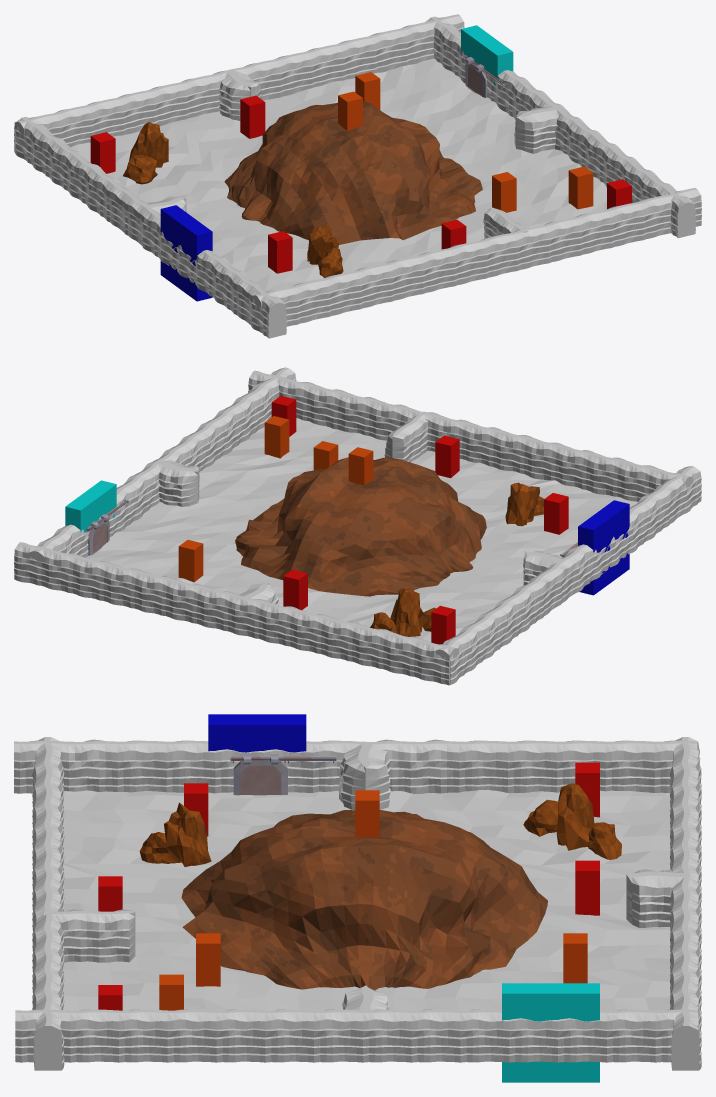
The model's file is level1_b1f_25.FBX.
3 renders of one model, top to bottom at view 1: azimuth 30°, elevation 25°; view 2: azimuth 150°, elevation 25°; view 3: azimuth 270°, elevation 25°, orthographic. The views are drawn at different scales.
Visible parts, largest first — view 1: Plane070, pCube5, pCube4, GeoSphere001, Antena1, Blurrg, Stormtrooper3, Antena3, Stormtrooper2, Antena, GeoSphere004, GeoSphere002 (+5 smaller); view 2: Plane070, pCube5, pCube4, GeoSphere001, GeoSphere004, Antena1, Antena2, Stormtrooper1, Stormtrooper3, Blurrg, Antena, Stormtrooper2 (+3 smaller); view 3: Plane070, pCube4, pCube5, GeoSphere004, GeoSphere001, maindoor, Blurrg, Antena3, Antena2, Antena, GeoSphere003, Stormtrooper2 (+6 smaller).
Boxes of the visible parts, bbox=[...] form: Plane070: bbox=[14, 14, 701, 338]; pCube5: bbox=[160, 205, 212, 301]; pCube4: bbox=[461, 25, 513, 85]; GeoSphere001: bbox=[129, 122, 168, 167]; Antena1: bbox=[568, 166, 593, 209]; Blurrg: bbox=[240, 95, 265, 138]; Stormtrooper3: bbox=[268, 231, 292, 273]; Antena3: bbox=[492, 172, 516, 212]; Stormtrooper2: bbox=[90, 132, 115, 173]; Antena: bbox=[338, 91, 362, 130]; GeoSphere004: bbox=[307, 224, 338, 264]; GeoSphere002: bbox=[123, 154, 157, 184]; Plane070: bbox=[14, 367, 701, 685]; pCube5: bbox=[578, 500, 629, 595]; pCube4: bbox=[65, 480, 116, 532]; GeoSphere001: bbox=[390, 588, 424, 636]; GeoSphere004: bbox=[505, 482, 539, 526]; Antena1: bbox=[264, 416, 289, 458]; Antena2: bbox=[178, 540, 203, 582]; Stormtrooper1: bbox=[435, 435, 459, 478]; Stormtrooper3: bbox=[544, 493, 568, 534]; Blurrg: bbox=[283, 569, 307, 610]; Antena: bbox=[348, 447, 373, 484]; Stormtrooper2: bbox=[431, 605, 455, 644]; Plane070: bbox=[14, 737, 701, 1070]; pCube4: bbox=[502, 983, 599, 1082]; pCube5: bbox=[208, 714, 306, 752]; GeoSphere004: bbox=[164, 802, 211, 866]; GeoSphere001: bbox=[556, 783, 594, 850]; maindoor: bbox=[233, 754, 287, 795]; Blurrg: bbox=[575, 860, 599, 915]; Antena3: bbox=[196, 933, 220, 986]; Antena2: bbox=[563, 933, 587, 983]; Antena: bbox=[355, 790, 379, 837]; GeoSphere003: bbox=[588, 822, 621, 859]; Stormtrooper2: bbox=[575, 762, 599, 817].
Size of the model in its own units: 196 by 50.4 by 196.
